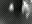person: (22, 1, 32, 19), (9, 4, 15, 13)
